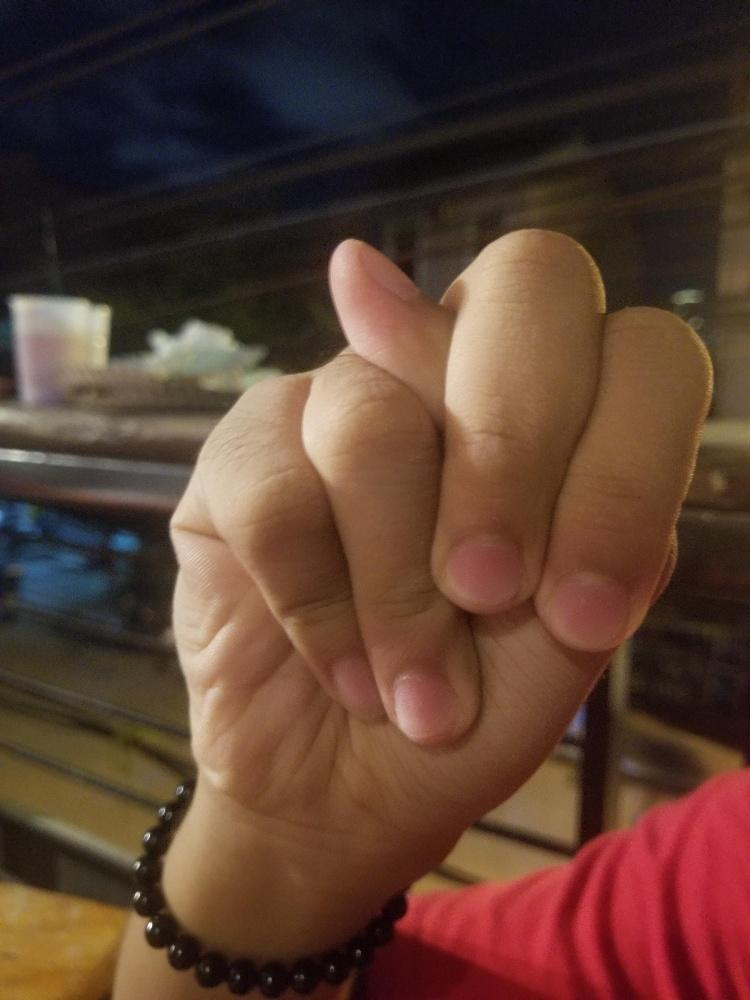n: (165, 224, 714, 830)
